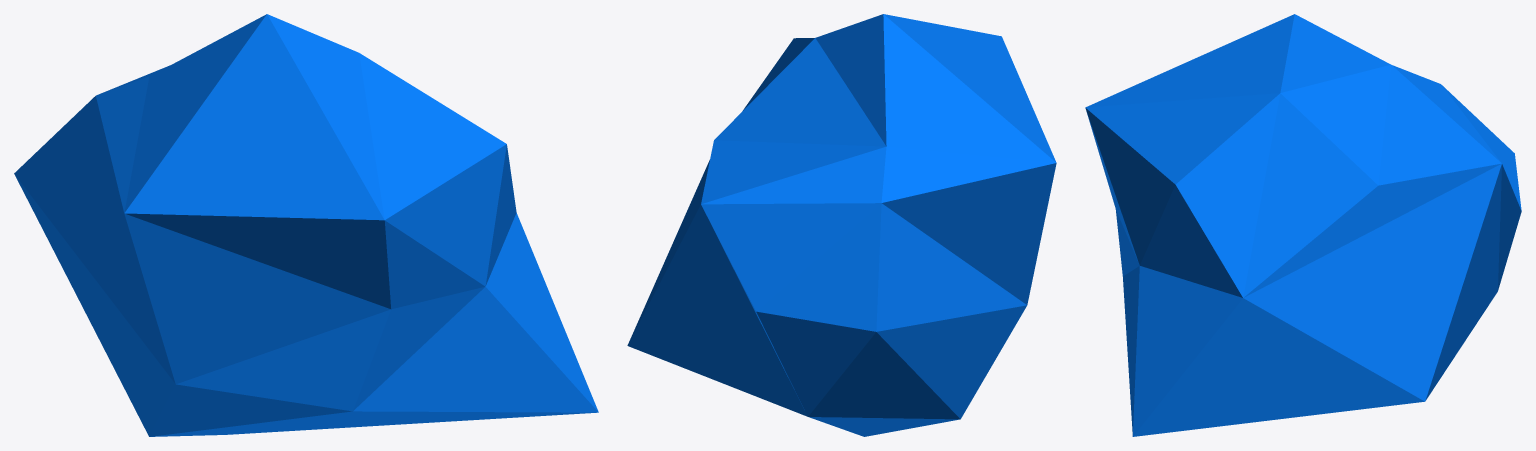
File: item_upsidedown_loot.glb
3 views of the same model, side by side, from view 1: azimuth 30°, elevation 25°; view 2: azimuth 150°, elevation 25°; view 3: azimuth 270°, elevation 25° (orthographic). The views are drawn at different scales.
Parts seen in each view (by area): view 1: UraniumBlob_Med; view 2: UraniumBlob_Med; view 3: UraniumBlob_Med.
Part boxes in pixels (x1,y1,x2,y2): UraniumBlob_Med: (14, 14, 598, 436); UraniumBlob_Med: (627, 14, 1056, 436); UraniumBlob_Med: (1085, 14, 1521, 436).
Size of the model in its own units: 0.226 by 0.2366 by 0.2513.
